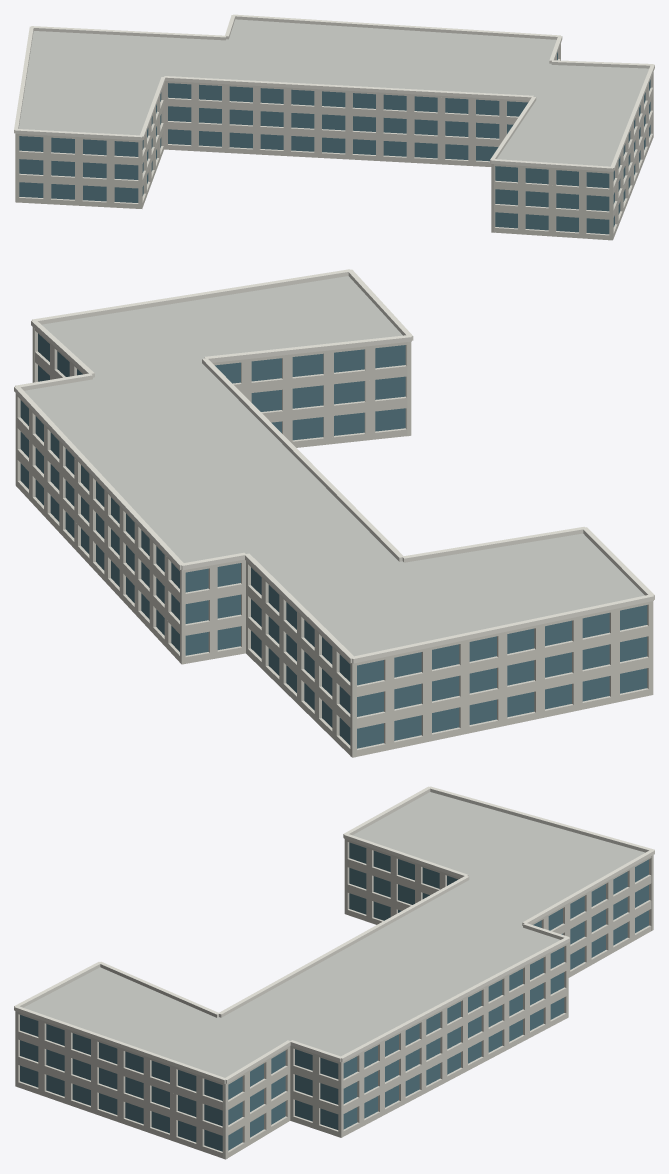
The model's file is sb_1556523934.far.glb.
3 renders of one model, top to bottom at view 1: azimuth 30°, elevation 25°; view 2: azimuth 150°, elevation 25°; view 3: azimuth 270°, elevation 25°, orthographic. The views are drawn at different scales.
Parts seen in each view (by area): view 1: roof, wall, glass, trim; view 2: roof, wall, glass, trim; view 3: roof, wall, glass, trim.
Part boxes in pixels (bbox=[...]): roof: bbox=[18, 19, 648, 166]; wall: bbox=[15, 43, 653, 240]; glass: bbox=[19, 52, 650, 234]; trim: bbox=[14, 14, 654, 171]; roof: bbox=[24, 276, 644, 656]; wall: bbox=[15, 327, 653, 757]; glass: bbox=[20, 333, 647, 748]; trim: bbox=[14, 269, 654, 663]; roof: bbox=[23, 792, 645, 1077]; wall: bbox=[15, 839, 653, 1159]; glass: bbox=[20, 842, 648, 1151]; trim: bbox=[14, 786, 654, 1083].
Size of the model in its own units: 76.95 by 9.74 by 70.93.
